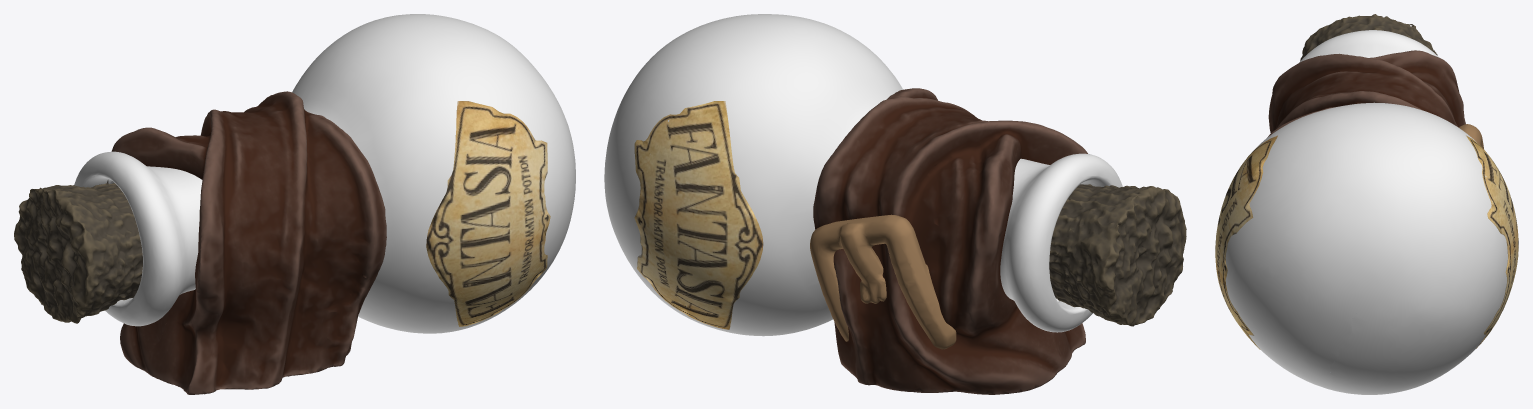
The model's file is Prop - Potion.glb.
The picture shows the model from 3 angles, left to right: view 1: azimuth 30°, elevation 25°; view 2: azimuth 150°, elevation 25°; view 3: azimuth 270°, elevation 25°; orthographic projection. The views are drawn at different scales.
Visible parts, largest first — view 1: potion; view 2: potion; view 3: potion.
Boxes of the visible parts, x1,y1,x2,y2 form: potion: [14, 14, 575, 394]; potion: [604, 14, 1186, 394]; potion: [1215, 14, 1518, 394].
Bounding box in the file's own units: 0.7473 × 0.4013 × 0.4132.
Materials: 4 (2 with a texture image).
